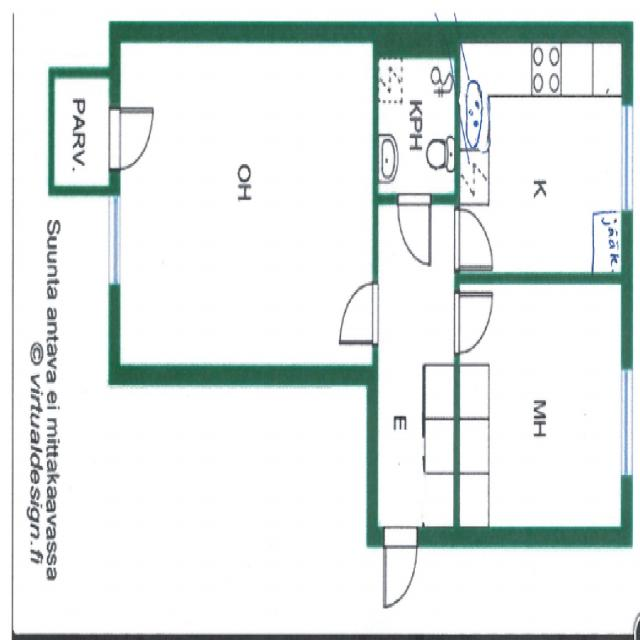door: (109, 109, 153, 170), (385, 525, 417, 605), (341, 283, 379, 343), (398, 193, 431, 261), (456, 210, 493, 270), (456, 294, 492, 351)
